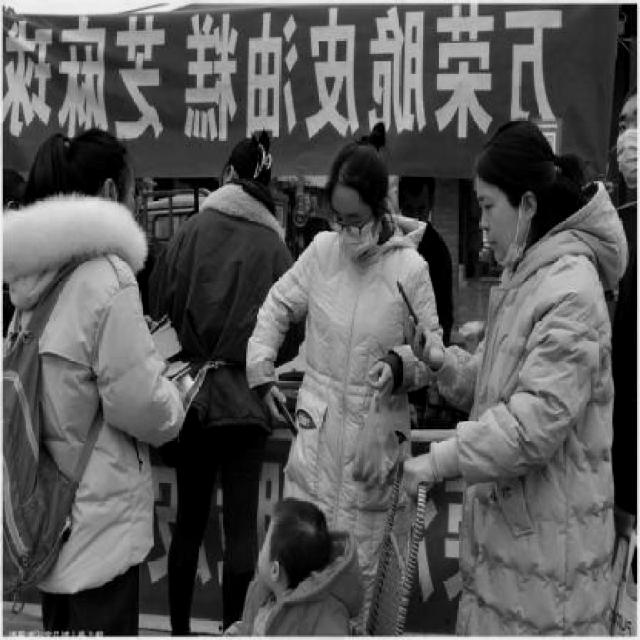face_mask: (334, 192, 375, 262)
face_nomask: (460, 182, 534, 266)
glasses: (328, 215, 364, 243)
hand_noglove: (408, 314, 443, 372), (403, 449, 435, 497), (368, 360, 397, 402), (266, 384, 288, 424)
head_nohelmet: (475, 120, 560, 191), (325, 136, 383, 202), (92, 140, 148, 178)
person: (0, 112, 197, 637), (451, 117, 631, 640), (249, 130, 437, 618), (152, 132, 318, 640)
